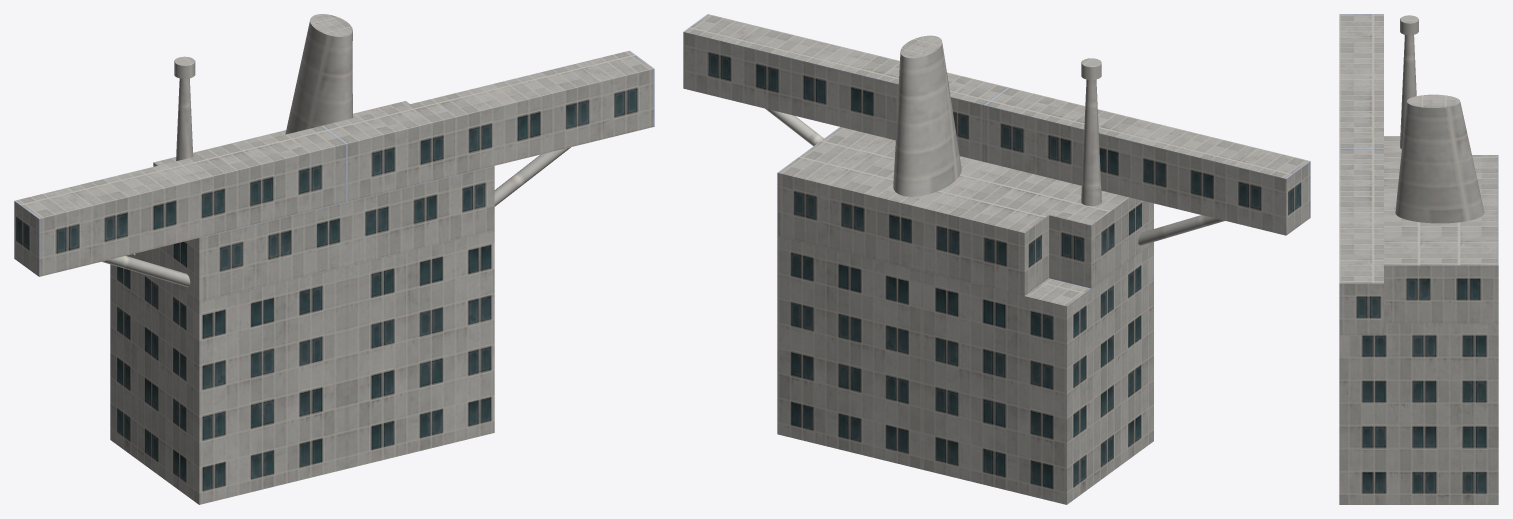
The model's file is living.glb.
The picture shows the model from 3 angles, left to right: view 1: azimuth 30°, elevation 25°; view 2: azimuth 150°, elevation 25°; view 3: azimuth 270°, elevation 25°; orthographic projection. The views are drawn at different scales.
Parts seen in each view (by area): view 1: living_quarters; view 2: living_quarters; view 3: living_quarters.
Part boxes in pixels (x1,y1,x2,y2): living_quarters: (14,14,654,504); living_quarters: (683,14,1310,504); living_quarters: (1339,14,1498,504).
Bounding box in the file's own units: 5 × 3.18 × 1.25.
Materials: 1 (1 with a texture image).
